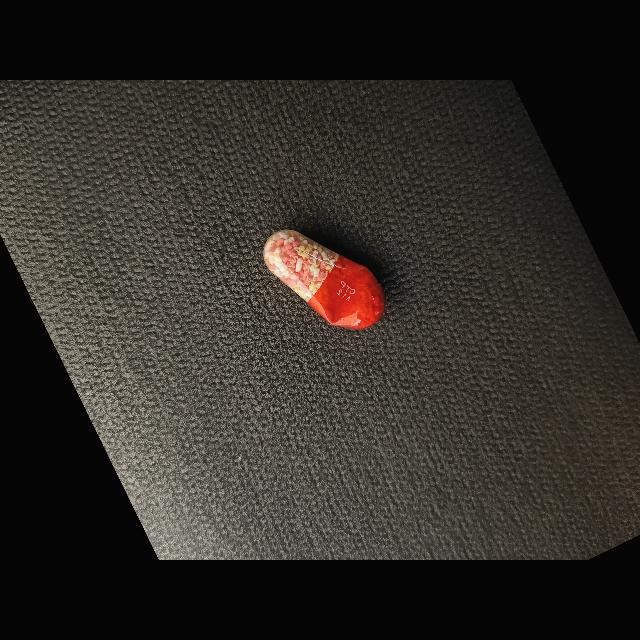Defective Capsule: (263, 229, 385, 329)
